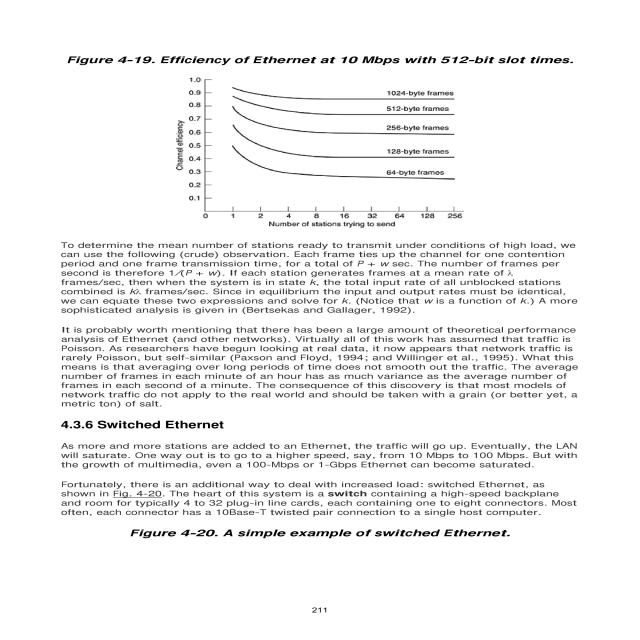diagram: (32, 39, 628, 238)
